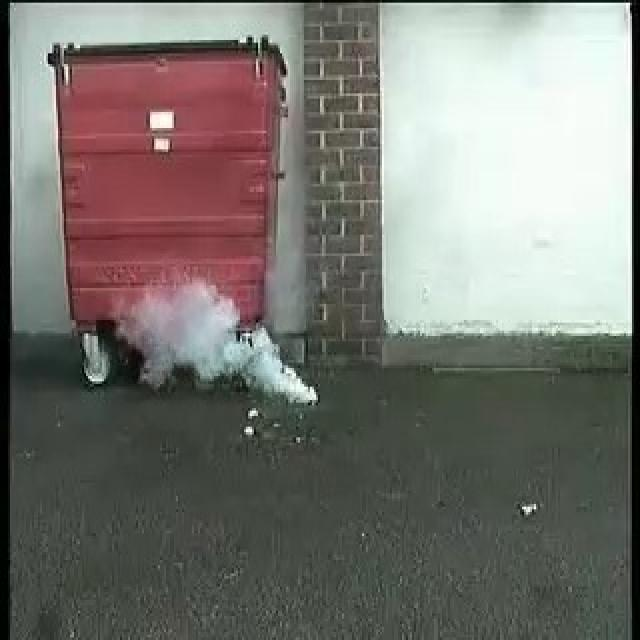smoke: (126, 290, 322, 398)
